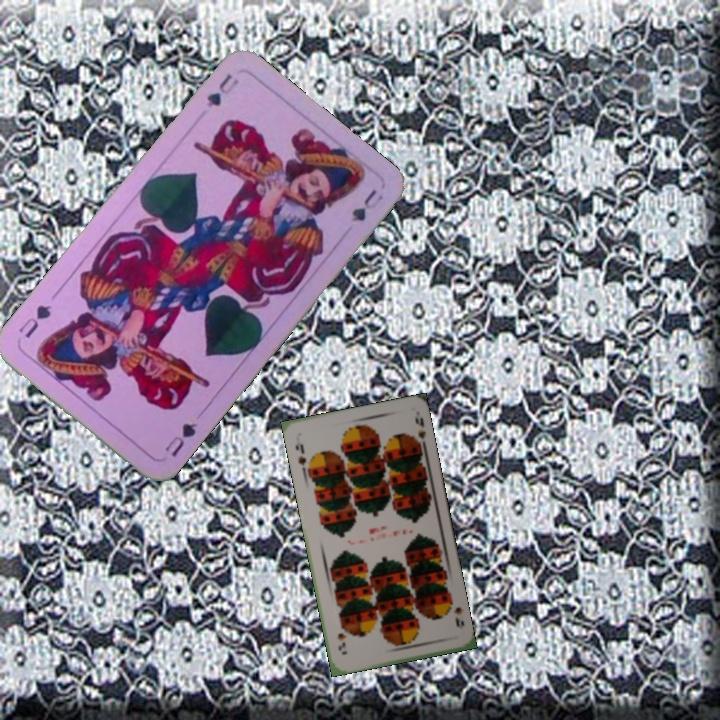GU: (160, 419, 200, 460), (202, 70, 242, 110)
S9: (443, 595, 467, 629), (291, 438, 308, 468)
